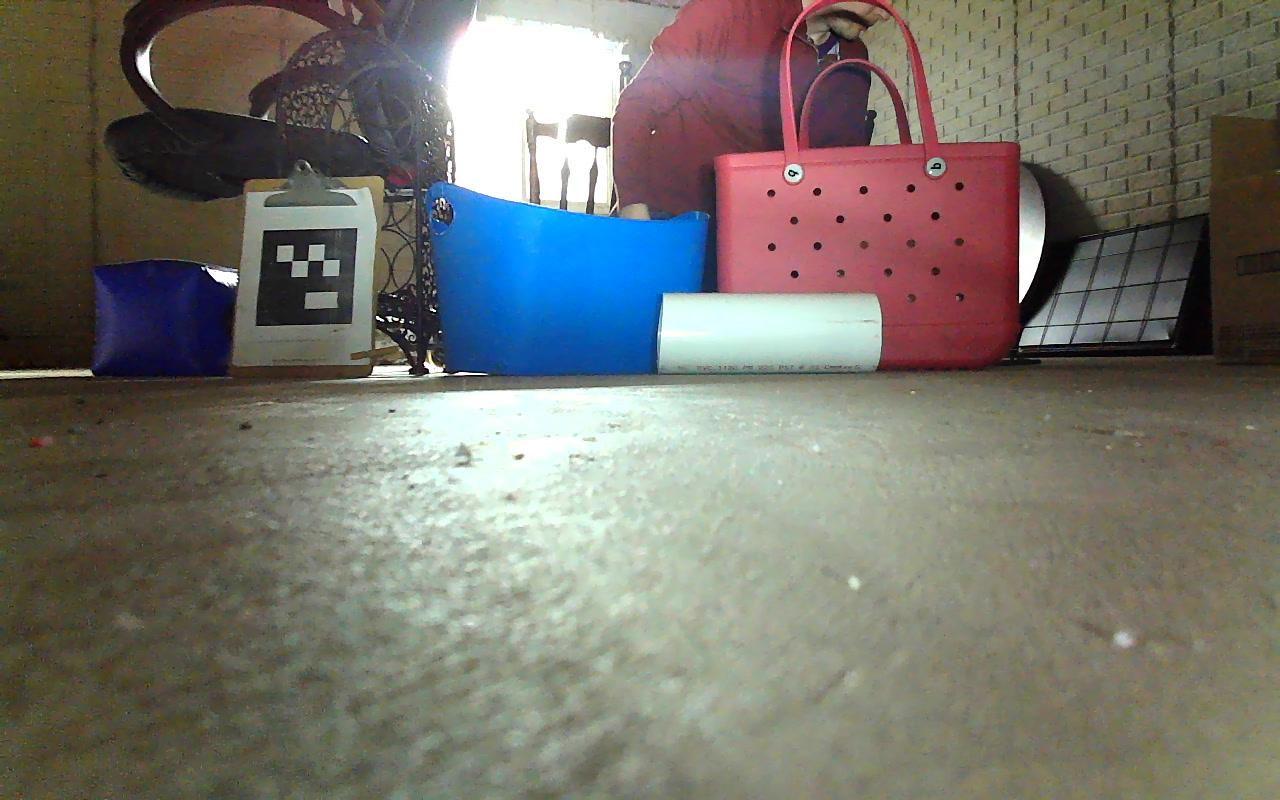coral: (651, 290, 886, 379)
